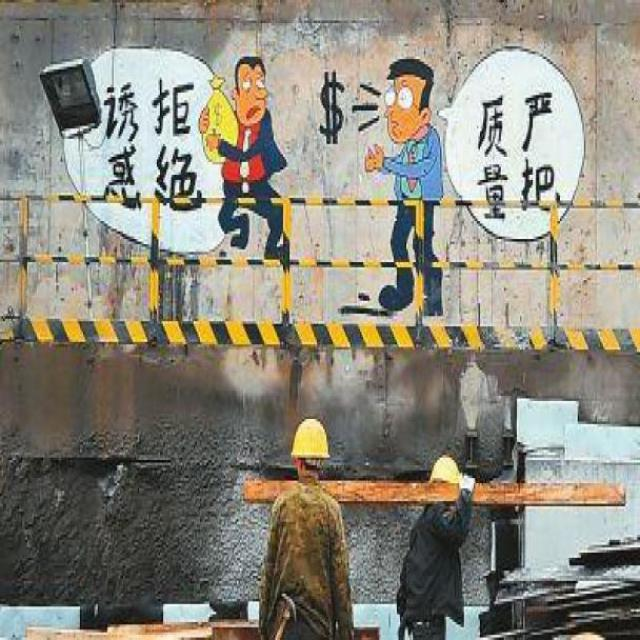helmet: (400, 424, 472, 514), (282, 402, 334, 481)
